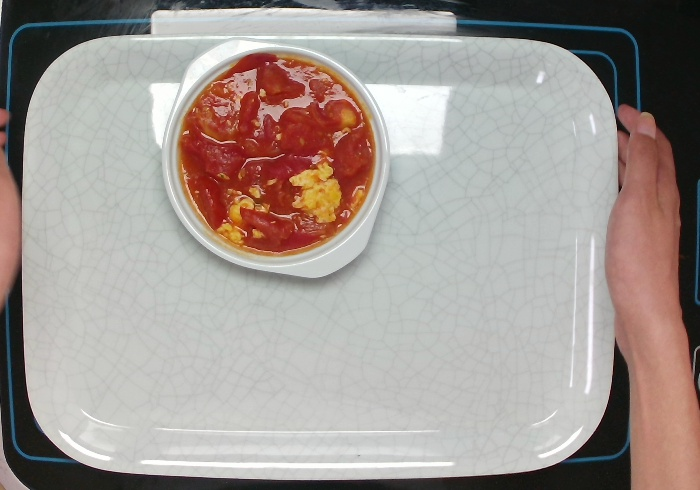JYsf-Shuang_Er_Pan: (158, 37, 394, 282)
